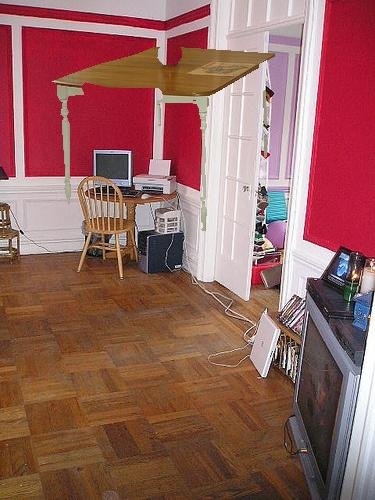tampered: (53, 48, 275, 231)
